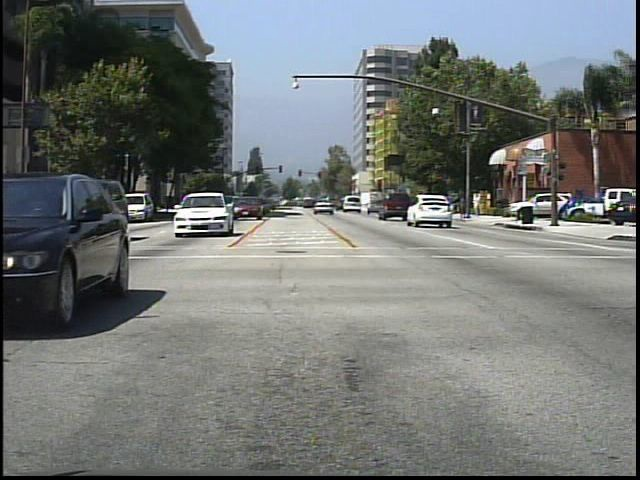person: (436, 191, 451, 221), (473, 190, 485, 219)
